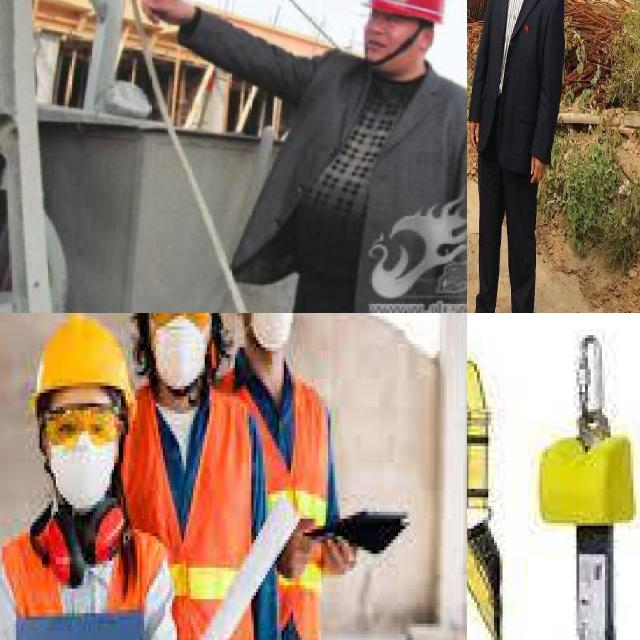Ear-protection: (21, 482, 138, 584)
Harness: (467, 356, 513, 640)
No_Ear-Protection: (417, 27, 434, 52)
No_Glasses: (368, 10, 408, 29)
face_nomask: (364, 21, 414, 59)
hand_noglove: (143, 0, 195, 24)
head_helmet: (368, 0, 445, 24)
